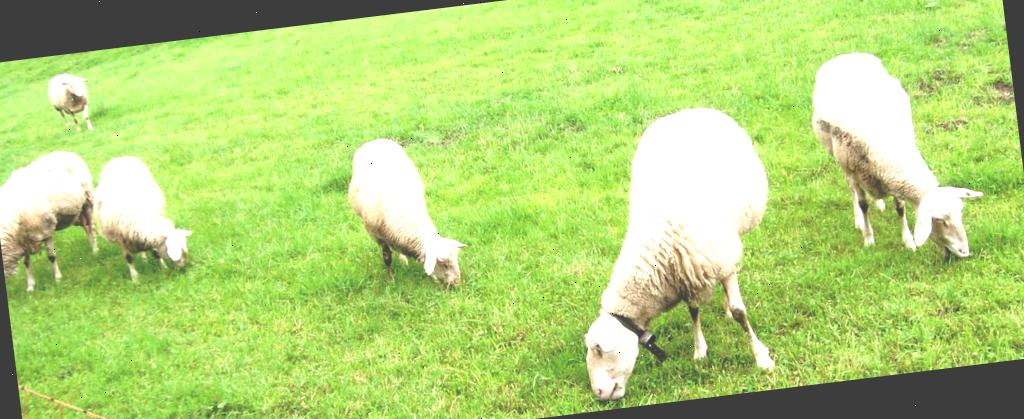Sheep: (554, 96, 790, 404), (799, 38, 984, 277), (343, 128, 466, 298), (0, 146, 104, 297), (85, 148, 196, 282), (44, 69, 91, 135)
